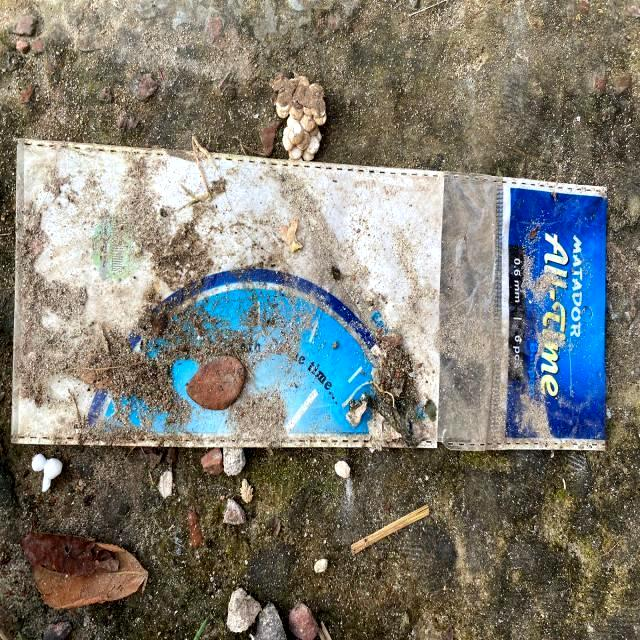packet: (13, 142, 612, 451)
